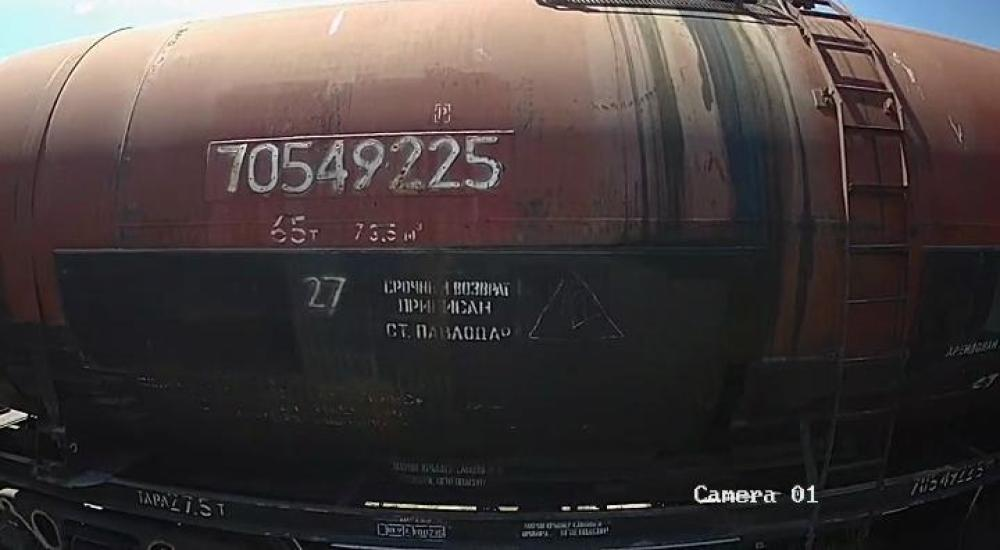Wagon-number: (212, 134, 507, 198)
